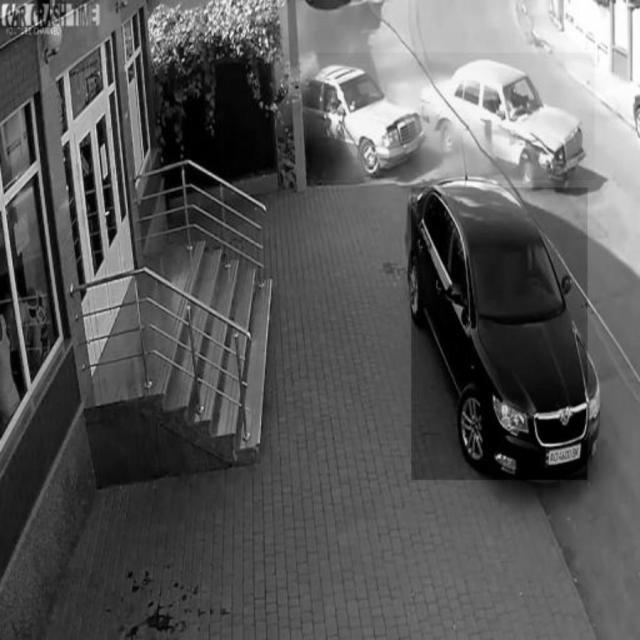accident: (307, 52, 595, 180)
vehicle: (411, 187, 587, 479)
